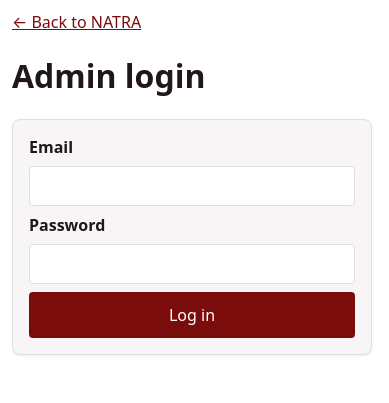
it: AdminLogin › shows the backend's message on a wrong-credentials ApiError
Type "admin@example.com" into the field labelled "Email" at (192, 186), box [29,166,355,206]
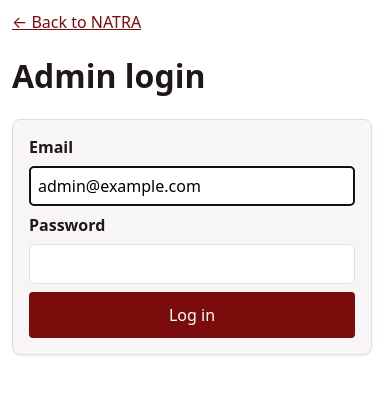
Type "wrongpass" into the password field labelled "Password" at (192, 264), box [29,244,355,284]
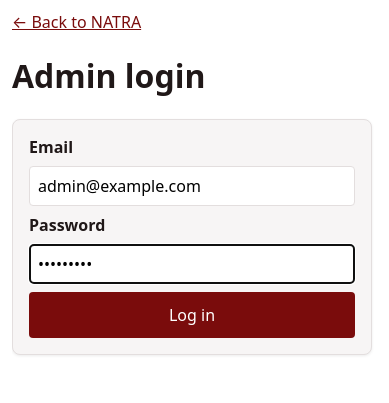
Click the button "Log in" at (192, 315), box [29,292,355,338]
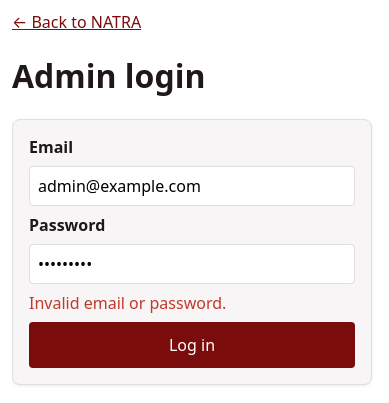
Expected: the message reads "Invalid email or password.", [29,292,226,314]
